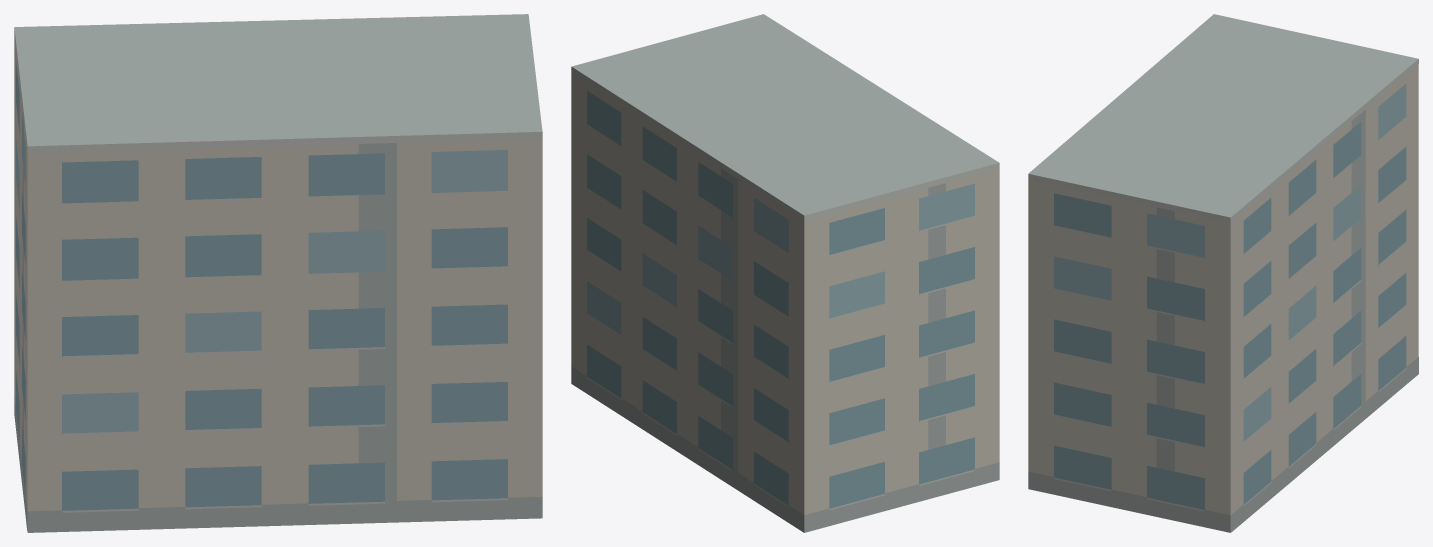
The model's file is survey-upis-32884390.glb.
3 renders of one model, left to right at view 1: azimuth 30°, elevation 25°; view 2: azimuth 150°, elevation 25°; view 3: azimuth 270°, elevation 25°, orthographic. The views are drawn at different scales.
Visible parts, largest first — view 1: survey-upis-32884390.tmp; view 2: survey-upis-32884390.tmp; view 3: survey-upis-32884390.tmp.
Boxes of the visible parts, x1,y1,x2,y2 form: survey-upis-32884390.tmp: (14, 14, 542, 532); survey-upis-32884390.tmp: (571, 14, 999, 532); survey-upis-32884390.tmp: (1028, 14, 1418, 532).
Size of the model in its own units: 18.56 by 13.4 by 15.05.
